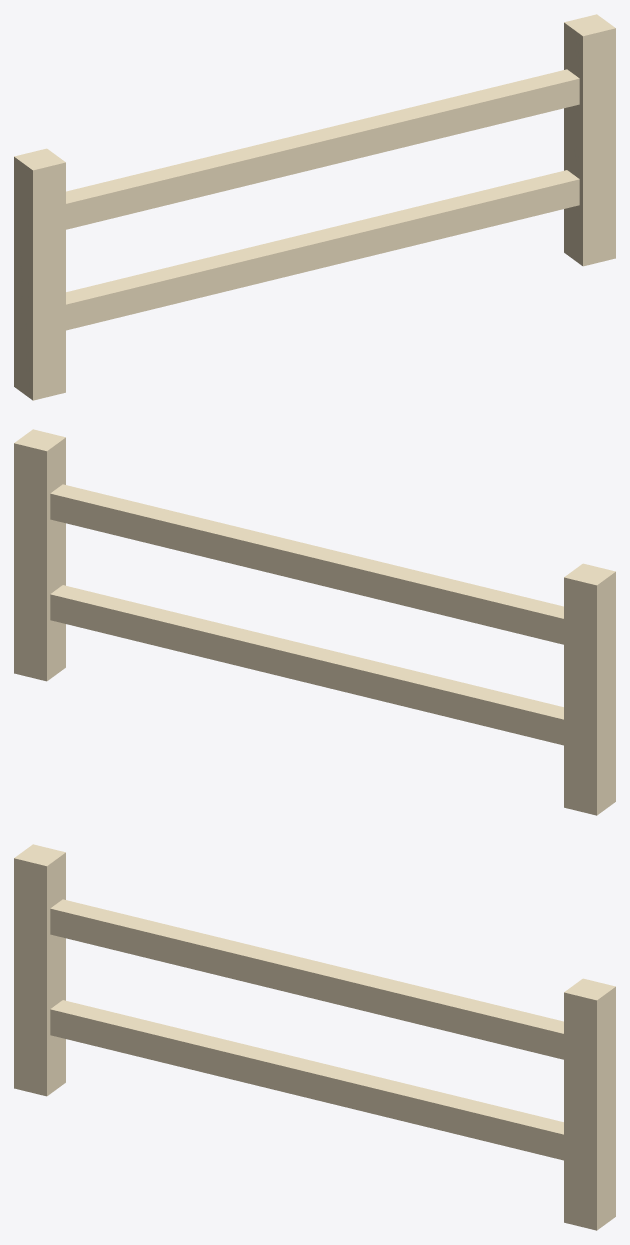
File: paddock_fence.glb
3 renders of one model, top to bottom at view 1: azimuth 30°, elevation 25°; view 2: azimuth 150°, elevation 25°; view 3: azimuth 330°, elevation 25°, orthographic.
Visible parts, largest first — view 1: rail.001, rail, post, post.001; view 2: rail.001, rail, post, post.001; view 3: rail.001, rail, post.001, post.
Part boxes in pixels (x1,y1,x2,y2): rail.001: [66, 69, 579, 229]; rail: [66, 170, 579, 330]; post: [14, 148, 65, 400]; post.001: [564, 14, 615, 266]; rail.001: [50, 484, 563, 644]; rail: [50, 585, 563, 745]; post: [564, 563, 615, 815]; post.001: [14, 429, 65, 681]; rail.001: [50, 899, 563, 1059]; rail: [50, 1000, 563, 1160]; post.001: [564, 978, 615, 1230]; post: [14, 844, 65, 1096].
Size of the model in its own units: 2.12 by 0.8 by 0.12.
